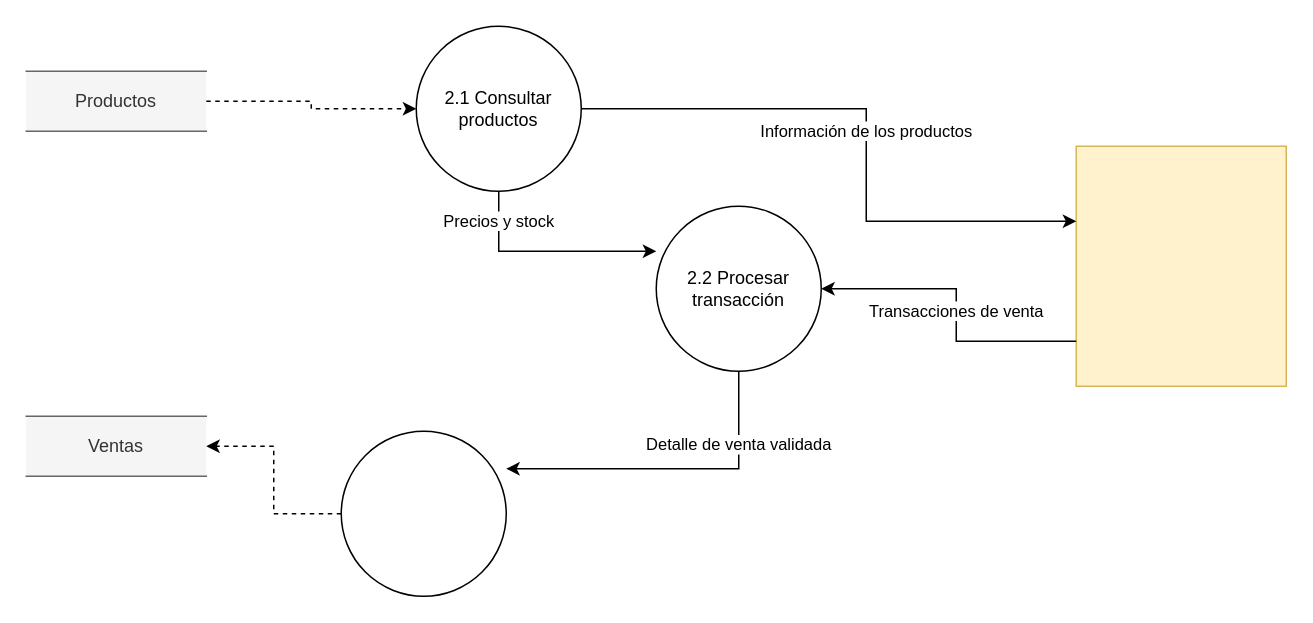
The diagram is 1313 pixels wide and 623 high, and some of its shapes have lost their labels. The centre of each missing label's shape, as x and y in pixels:
2.3 Registrar venta realizada: point (423, 513)
Empleados: point (1180, 265)
